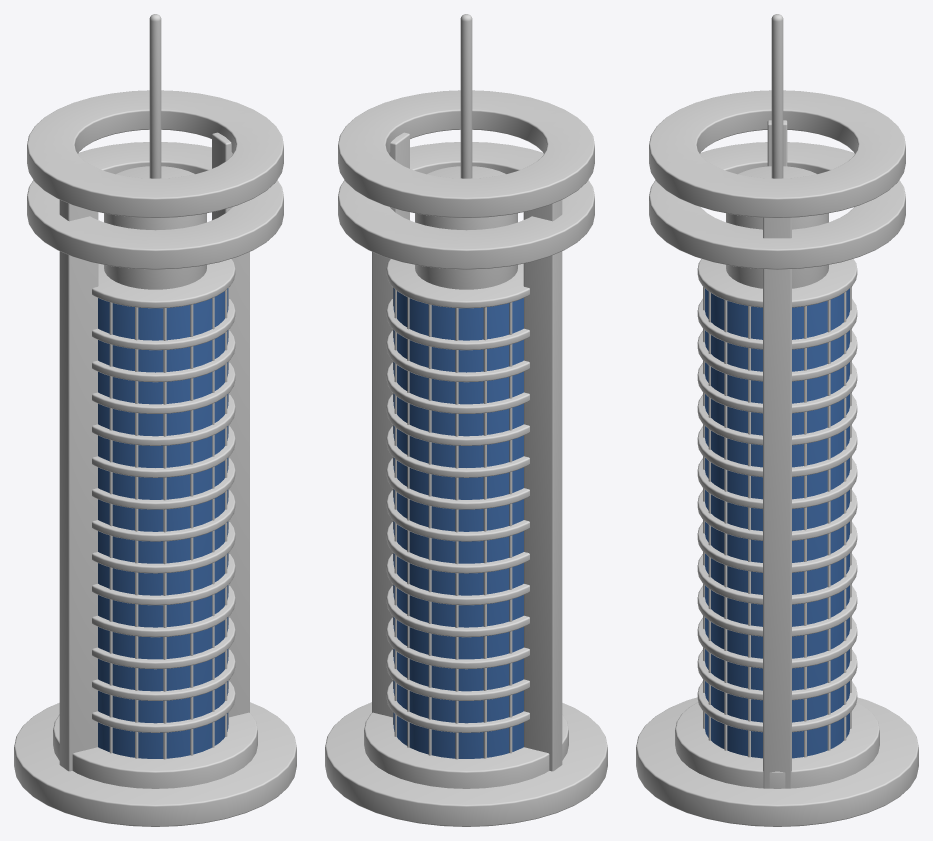
File: building3.gltf
The picture shows the model from 3 angles, left to right: view 1: azimuth 30°, elevation 25°; view 2: azimuth 150°, elevation 25°; view 3: azimuth 270°, elevation 25°; orthographic projection.
Visible parts, largest first — view 1: 空白_1; view 2: 空白_1; view 3: 空白_1.
Boxes of the visible parts, left/top/right/bottom form: 空白_1: left=14, top=14, right=296, bottom=826; 空白_1: left=325, top=14, right=607, bottom=826; 空白_1: left=636, top=14, right=918, bottom=826.
Size of the model in its own units: 5.59 by 16.43 by 5.59.
